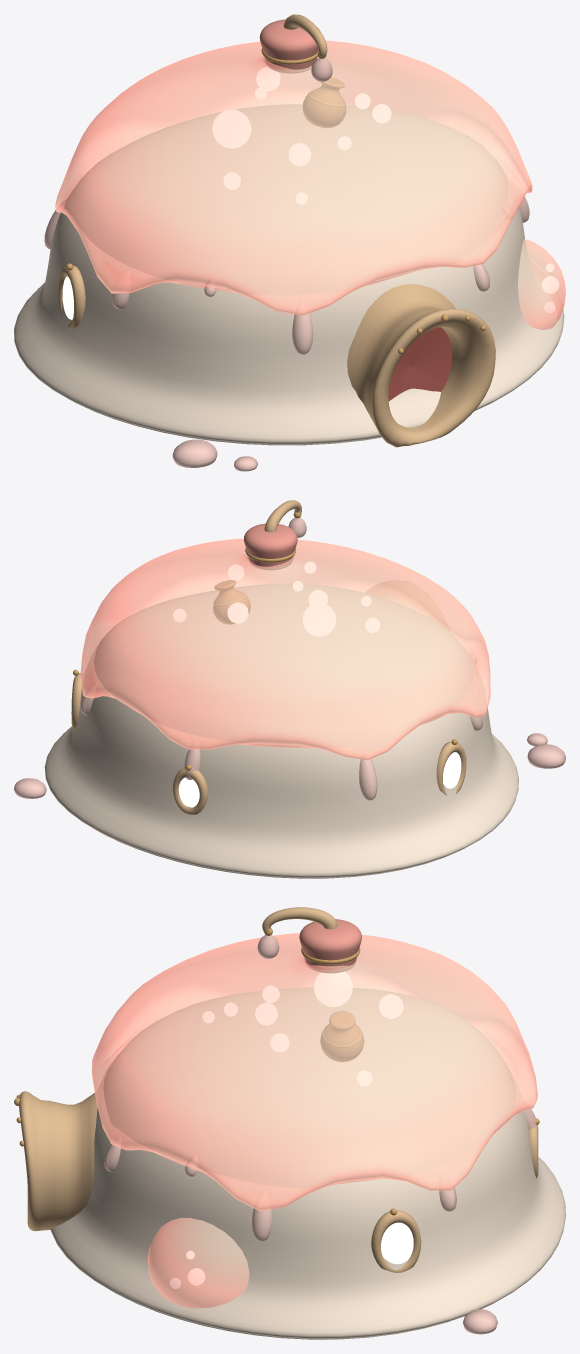
File: house_02_0202.fbx
3 renders of one model, top to bottom at view 1: azimuth 30°, elevation 25°; view 2: azimuth 150°, elevation 25°; view 3: azimuth 270°, elevation 25°, orthographic. The views are drawn at different scales.
Visible parts, largest first — view 1: House02_Body_Base, House02_Dome_JellyClear, House02_Entrance_Tunnel, House02_Blister_JellyClear, House02_Entrance_Shadow, House02_Top_Plug, House02_Float_Pot, House02_Float_Lamp, House02_Puddle_1, House02_WindowLip_L, House02_Drip_6, House02_Top_Sprout; view 2: House02_Body_Base, House02_Dome_JellyClear, House02_Top_Plug, House02_Float_Lamp, House02_WindowLip_Back, House02_Float_Pot, House02_Puddle_1, House02_WindowLip_L, House02_Drip_4, House02_Puddle_3, House02_Top_Sprout, House02_Window_L (+1 smaller); view 3: House02_Body_Base, House02_Dome_JellyClear, House02_Entrance_Tunnel, House02_Blister_JellyClear, House02_Top_Plug, House02_Float_Pot, House02_WindowLip_R, House02_Window_R, House02_Float_Lamp, House02_Top_Sprout, House02_Puddle_3, House02_Drip_1.
Part boxes in pixels (bbox=[...]): House02_Body_Base: bbox=[14, 104, 564, 445]; House02_Dome_JellyClear: bbox=[55, 40, 532, 315]; House02_Entrance_Tunnel: bbox=[347, 284, 495, 447]; House02_Blister_JellyClear: bbox=[518, 239, 565, 329]; House02_Entrance_Shadow: bbox=[388, 327, 452, 401]; House02_Top_Plug: bbox=[259, 19, 319, 73]; House02_Float_Pot: bbox=[303, 77, 345, 127]; House02_Float_Lamp: bbox=[212, 110, 250, 148]; House02_Puddle_1: bbox=[172, 439, 217, 467]; House02_WindowLip_L: bbox=[58, 265, 85, 329]; House02_Drip_6: bbox=[292, 313, 313, 354]; House02_Top_Sprout: bbox=[283, 14, 327, 56]; House02_Body_Base: bbox=[44, 584, 518, 878]; House02_Dome_JellyClear: bbox=[80, 538, 490, 760]; House02_Top_Plug: bbox=[244, 523, 297, 569]; House02_Float_Lamp: bbox=[303, 603, 335, 636]; House02_WindowLip_Back: bbox=[172, 767, 207, 814]; House02_Float_Pot: bbox=[213, 580, 250, 624]; House02_Puddle_1: bbox=[527, 744, 565, 768]; House02_WindowLip_L: bbox=[436, 742, 466, 795]; House02_Drip_4: bbox=[359, 751, 377, 800]; House02_Puddle_3: bbox=[14, 778, 46, 798]; House02_Top_Sprout: bbox=[264, 500, 301, 532]; House02_Window_L: bbox=[443, 752, 461, 788]; House02_Body_Base: bbox=[50, 987, 565, 1339]; House02_Dome_JellyClear: bbox=[91, 933, 537, 1211]; House02_Entrance_Tunnel: bbox=[19, 1091, 97, 1231]; House02_Blister_JellyClear: bbox=[147, 1218, 249, 1308]; House02_Top_Plug: bbox=[299, 919, 361, 972]; House02_Float_Pot: bbox=[320, 1011, 364, 1061]; House02_WindowLip_R: bbox=[371, 1210, 421, 1272]; House02_Window_R: bbox=[381, 1222, 413, 1264]; House02_Float_Lamp: bbox=[314, 972, 352, 1006]; House02_Top_Sprout: bbox=[262, 907, 337, 932]; House02_Puddle_3: bbox=[462, 1309, 497, 1334]; House02_Drip_1: bbox=[252, 1208, 271, 1241].
Size of the model in its own units: 6.3 by 3.96 by 6.2.
